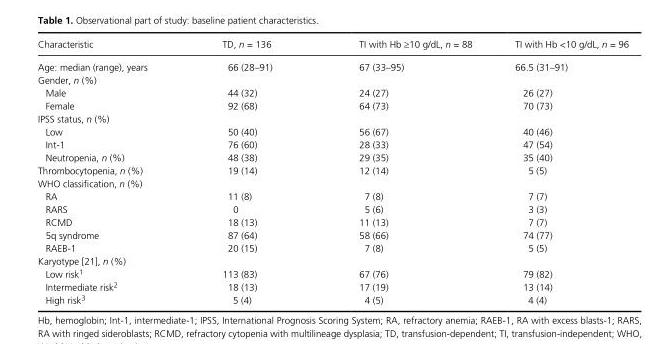table: (37, 37, 628, 305)
table column: (315, 37, 492, 305), (37, 37, 184, 305), (492, 37, 628, 305), (184, 37, 315, 305)
table column header: (37, 37, 628, 55)
table projected row header: (37, 72, 628, 85), (37, 111, 628, 124), (37, 176, 628, 189), (37, 254, 628, 266)
table row: (37, 37, 628, 55), (37, 55, 628, 72), (37, 72, 628, 85), (37, 85, 628, 98), (37, 98, 628, 111), (37, 111, 628, 124), (37, 124, 628, 137), (37, 137, 628, 150), (37, 150, 628, 163), (37, 163, 628, 176), (37, 176, 628, 189), (37, 189, 628, 202), (37, 202, 628, 215), (37, 215, 628, 228), (37, 228, 628, 241), (37, 241, 628, 254), (37, 266, 628, 279), (37, 279, 628, 292), (37, 292, 628, 305), (37, 254, 628, 266)
